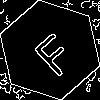F: (25, 25, 80, 79)
